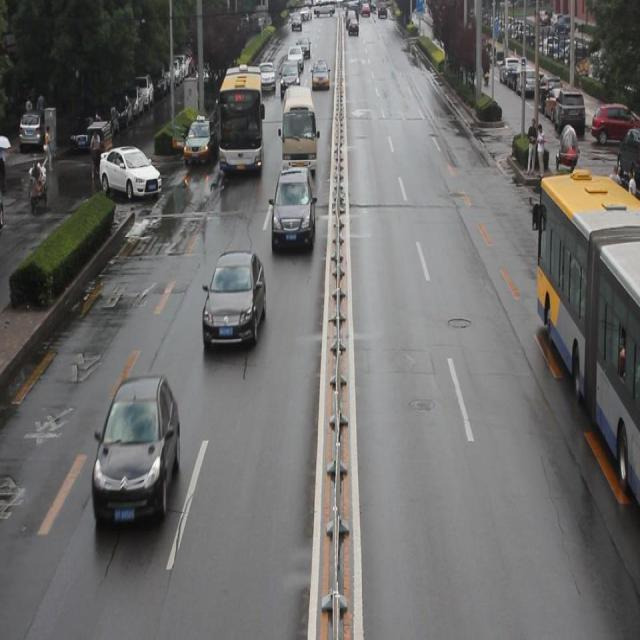car: (91, 373, 178, 529), (204, 252, 265, 345), (271, 168, 314, 254), (100, 145, 161, 203), (183, 128, 216, 178)
truck: (282, 89, 316, 175)
van: (531, 183, 640, 519), (220, 64, 263, 177)
